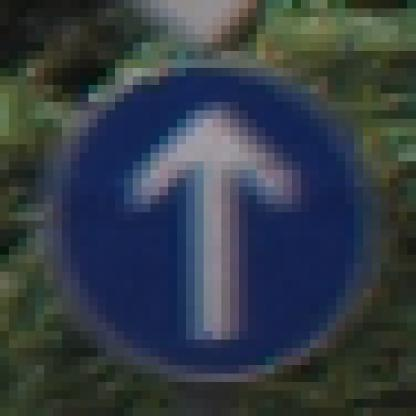AheadOnly: (45, 52, 373, 374)
